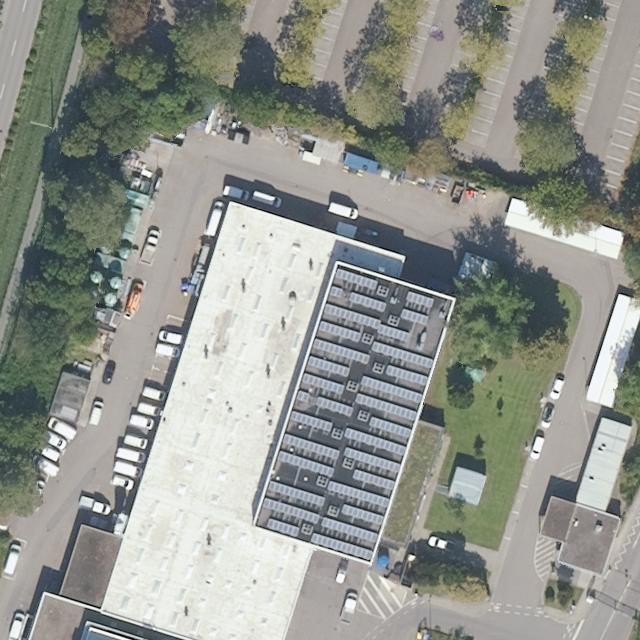PV: (256, 266, 436, 560)
